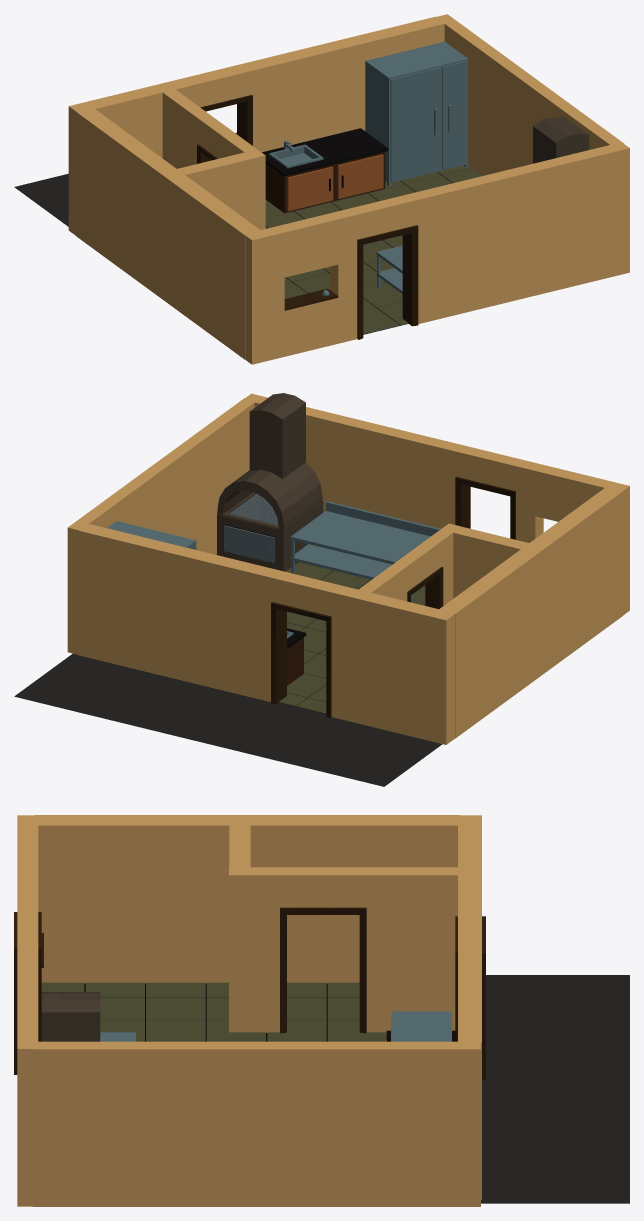
The model's file is kitchen_.fbx.
The picture shows the model from 3 angles, top to bottom: view 1: azimuth 30°, elevation 25°; view 2: azimuth 150°, elevation 25°; view 3: azimuth 270°, elevation 25°; orthographic projection. The views are drawn at different scales.
Visible parts, largest first — view 1: Box004, Box008, Box006, Box007, Box005, w, Box009, Box011, Box012, Cylinder001, Box002; view 2: Box006, w, Box008, Box004, Box005, Cylinder001, Box002, Box003, Box011, Box012, Box007, Box009; view 3: Box005, Box008, w, Box011, Box004, Box006, Cylinder001, Box007, Box012.
Part boxes in pixels (left/top/right/bottom): Box004: left=244, top=142, right=629, bottom=364; Box008: left=77, top=108, right=260, bottom=359; Box006: left=68, top=16, right=444, bottom=236; Box007: left=365, top=41, right=468, bottom=186; Box005: left=436, top=14, right=624, bottom=175; w: left=14, top=132, right=482, bottom=334; Box009: left=262, top=128, right=388, bottom=213; Box011: left=162, top=89, right=265, bottom=229; Box012: left=176, top=152, right=252, bottom=224; Cylinder001: left=533, top=116, right=589, bottom=163; Box002: left=376, top=245, right=402, bottom=293; Box006: left=78, top=524, right=455, bottom=744; w: left=14, top=554, right=442, bottom=786; Box008: left=438, top=487, right=623, bottom=738; Box004: left=243, top=393, right=629, bottom=614; Box005: left=67, top=398, right=255, bottom=654; Cylinder001: left=217, top=393, right=322, bottom=530; Box002: left=290, top=501, right=440, bottom=601; Box003: left=217, top=492, right=323, bottom=571; Box011: left=358, top=523, right=461, bottom=608; Box012: left=453, top=526, right=528, bottom=598; Box007: left=107, top=521, right=196, bottom=549; Box009: left=287, top=628, right=306, bottom=685; Box005: left=32, top=1041, right=480, bottom=1206; Box008: left=34, top=815, right=459, bottom=983; w: left=41, top=975, right=629, bottom=1203; Box011: left=229, top=867, right=458, bottom=1033; Box004: left=14, top=815, right=43, bottom=1206; Box006: left=455, top=815, right=485, bottom=1199; Cylinder001: left=41, top=992, right=100, bottom=1041; Box007: left=391, top=1011, right=451, bottom=1041; Box012: left=229, top=825, right=250, bottom=867.
Size of the model in its own units: 955 by 343 by 1062.
